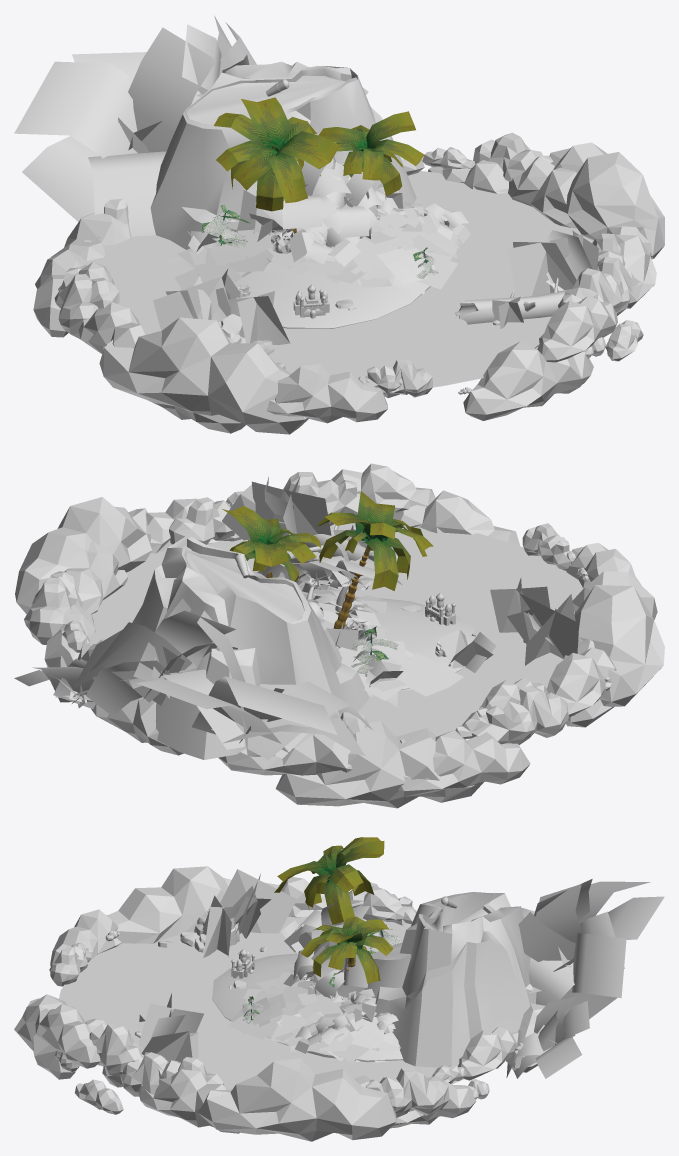
Rendered from land2222.fbx.
3 views of the same model, one above another, from view 1: azimuth 30°, elevation 25°; view 2: azimuth 150°, elevation 25°; view 3: azimuth 270°, elevation 25° (orthographic). The views are drawn at different scales.
Parts seen in each view (by area): view 1: 圆盘, polySurface99_3_4, polySurface565_2, poly_cloud_2_40, 组06_1, poly_cloud_2_20, poly_cloud_2_30, land, poly_cloud_2_38, 组08_1, poly_cloud_2_28, polySurface565 (+38 smaller); view 2: 圆盘, polySurface565_2, polySurface99_3_4, poly_cloud_2_2, polySurface99_3_6, poly_cloud_2_40, poly_cloud_2_20, 组06_1, poly_cloud_2_0, poly_cloud_4_47, 组08_1, poly_cloud_2_4 (+34 smaller); view 3: polySurface565_2, 圆盘, poly_cloud_2_20, polySurface99_3_6, poly_cloud_2_40, 组06_1, polySurface99_3_5, 组08_1, polySurface99_3_4, land, poly_cloud_2_24, poly_cloud_2_28 (+32 smaller).
Part boxes in pixels (left/top/right/bottom): 圆盘: left=84, top=171, right=593, bottom=387; polySurface99_3_4: left=14, top=27, right=216, bottom=236; polySurface565_2: left=150, top=61, right=416, bottom=249; poly_cloud_2_40: left=99, top=317, right=308, bottom=434; 组06_1: left=214, top=97, right=339, bottom=233; poly_cloud_2_20: left=549, top=142, right=664, bottom=259; poly_cloud_2_30: left=463, top=341, right=593, bottom=420; land: left=233, top=270, right=430, bottom=328; poly_cloud_2_38: left=266, top=364, right=387, bottom=423; 组08_1: left=318, top=111, right=424, bottom=196; poly_cloud_2_28: left=537, top=296, right=617, bottom=362; polySurface565: left=186, top=75, right=345, bottom=124; 圆盘: left=88, top=523, right=583, bottom=736; polySurface565_2: left=132, top=536, right=369, bottom=759; polySurface99_3_4: left=118, top=610, right=372, bottom=759; poly_cloud_2_2: left=275, top=720, right=483, bottom=808; polySurface99_3_6: left=72, top=598, right=237, bottom=716; poly_cloud_2_40: left=572, top=571, right=664, bottom=706; poly_cloud_2_20: left=15, top=497, right=151, bottom=614; 组06_1: left=317, top=491, right=433, bottom=628; poly_cloud_2_0: left=398, top=730, right=530, bottom=796; poly_cloud_4_47: left=470, top=685, right=568, bottom=744; 组08_1: left=222, top=506, right=321, bottom=581; poly_cloud_2_4: left=218, top=733, right=352, bottom=775; polySurface565_2: left=364, top=892, right=536, bottom=1067; 圆盘: left=59, top=916, right=464, bottom=1089; poly_cloud_2_20: left=198, top=1058, right=396, bottom=1141; polySurface99_3_6: left=518, top=884, right=626, bottom=1018; poly_cloud_2_40: left=109, top=866, right=231, bottom=943; 组06_1: left=274, top=837, right=384, bottom=924; polySurface99_3_5: left=506, top=996, right=589, bottom=1078; 组08_1: left=301, top=916, right=393, bottom=983; polySurface99_3_4: left=521, top=879, right=664, bottom=993; land: left=212, top=953, right=402, bottom=1062; poly_cloud_2_24: left=139, top=1069, right=239, bottom=1133; poly_cloud_2_28: left=35, top=1004, right=100, bottom=1068.
Bounding box in the file's own units: 3882 × 1439 × 4358.
